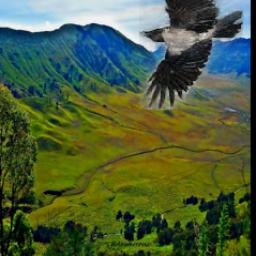Crow: (140, 0, 244, 111)
